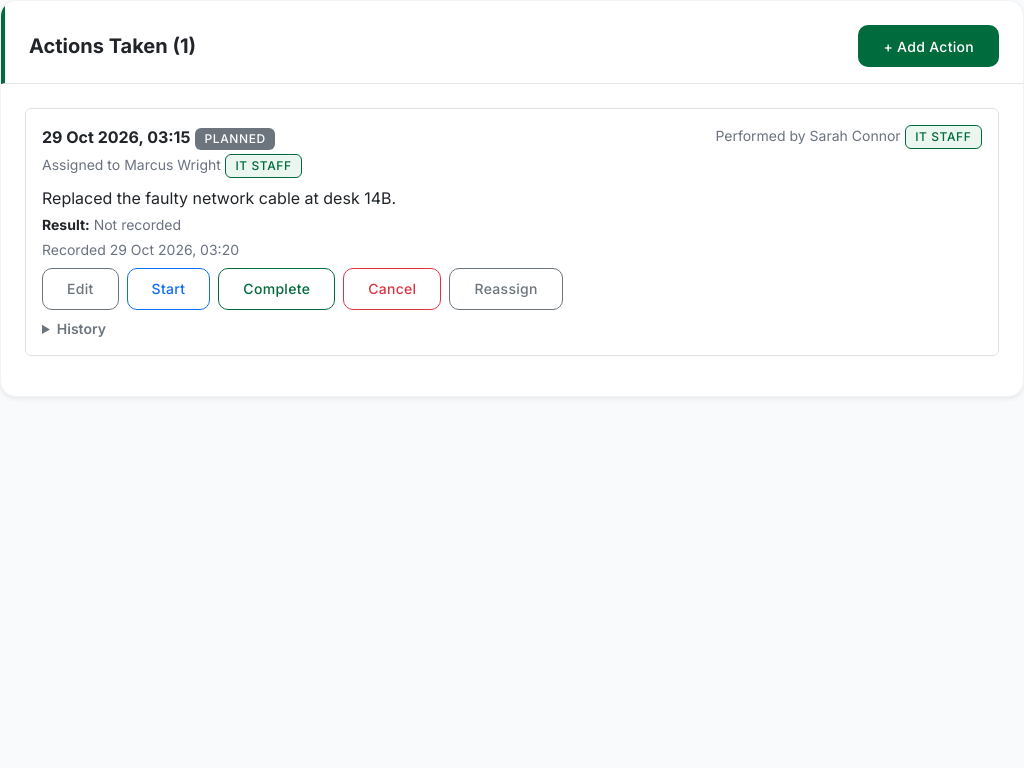
Lab 4: ActionsTaken component (Issue #31) › UI-26: the assignee list holds active staff only; an inactive current assignee is labelled and not selectable; server rejection shows under the field
The width and height of the screenshot is (1024, 768).
Click the button "Reassign". click: (506,289)
box: [450, 268, 563, 310]
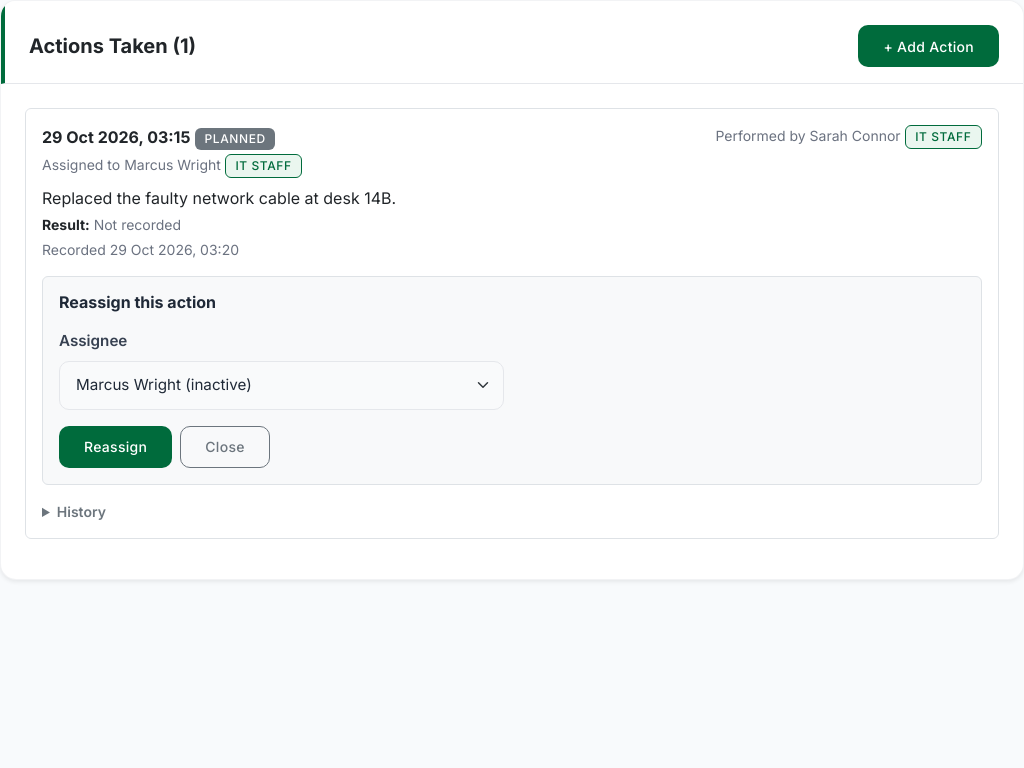
Select "Sarah Connor" in the dropdown labelled "Assignee". click: (282,385)
box: [59, 361, 504, 410]
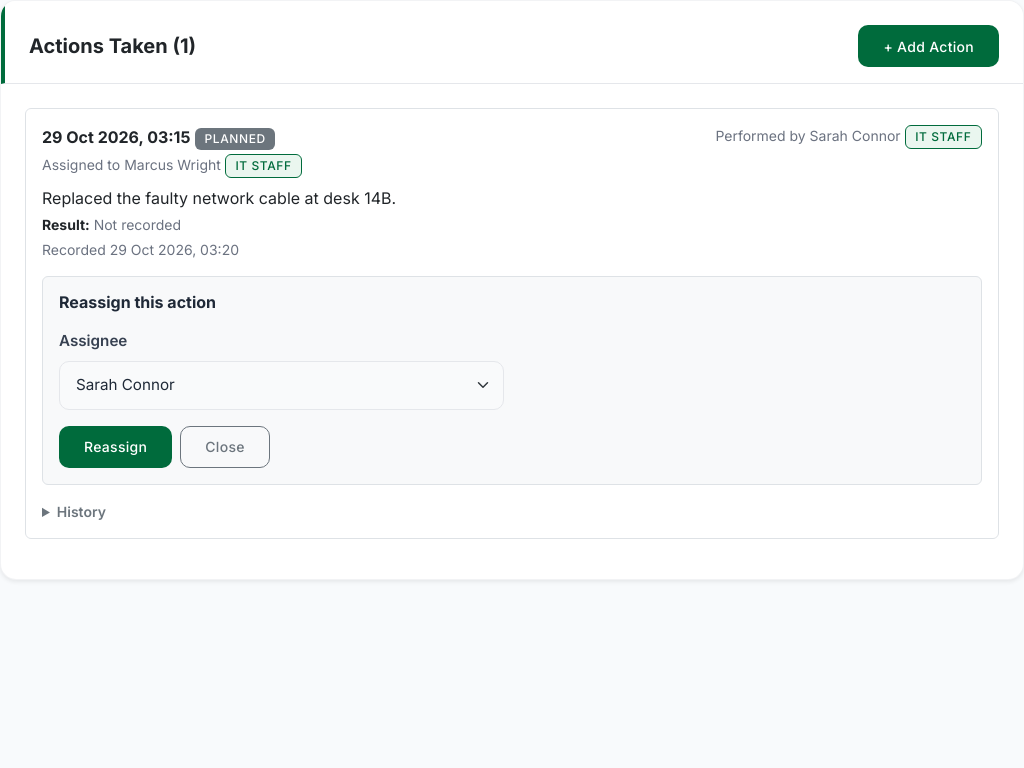
Click the button "Reassign". click: (116,447)
box: [59, 426, 172, 468]
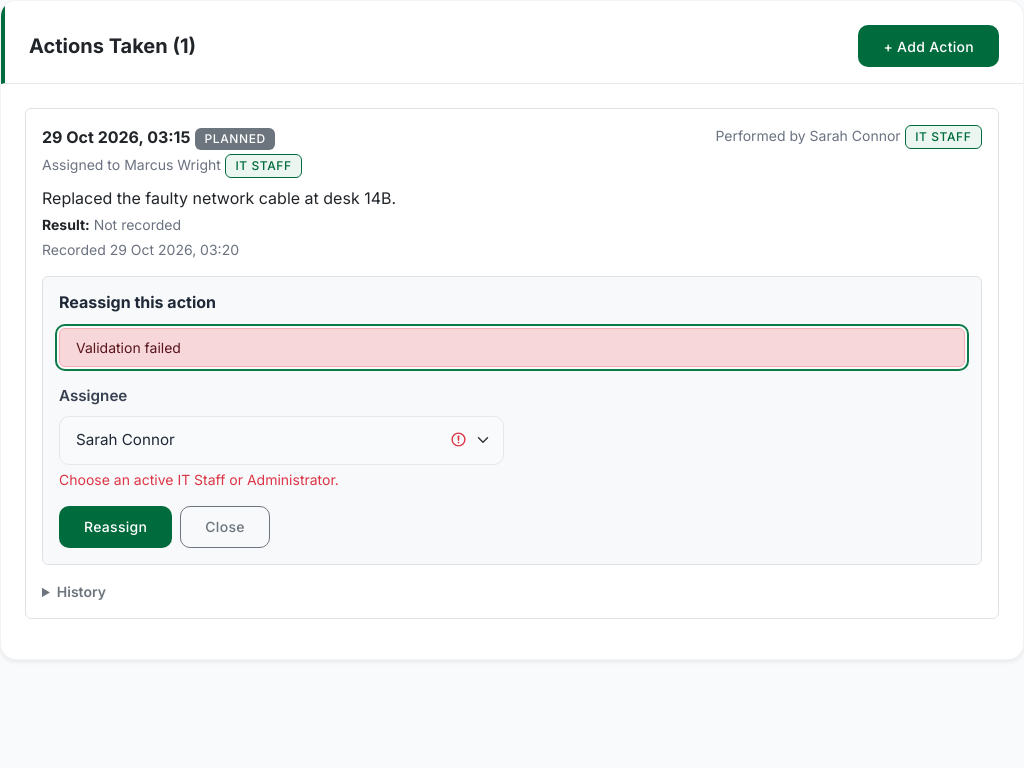
Now the text "Choose an active IT Staff or Administrator." is shown, box [59, 471, 339, 488]
